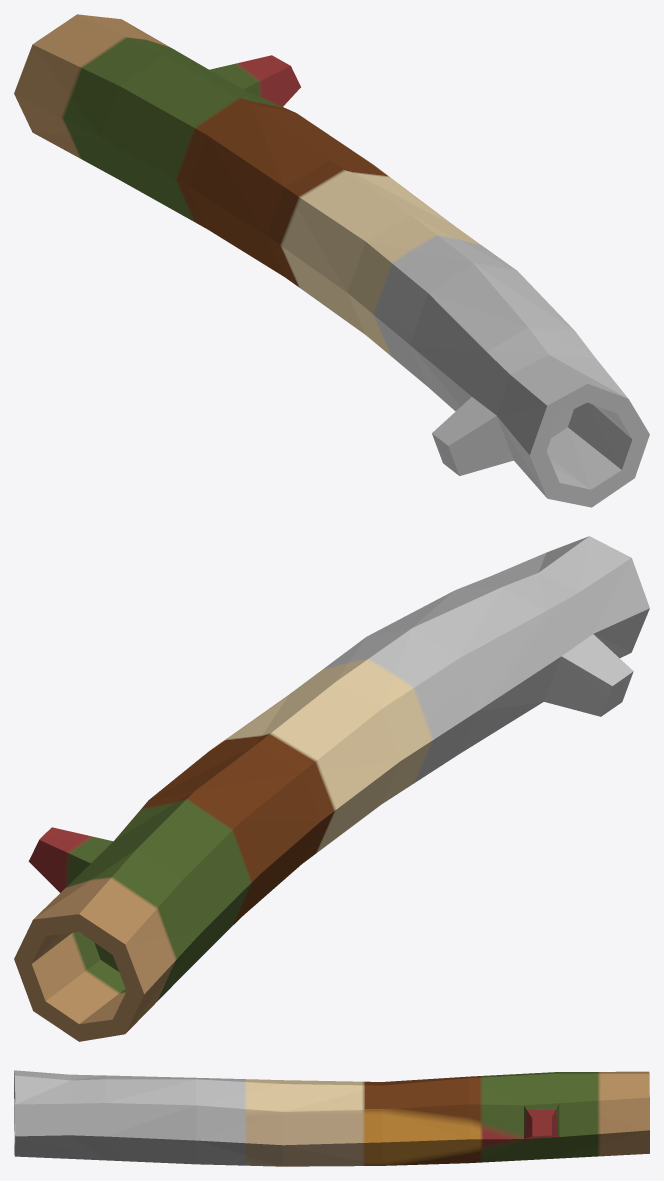
Rendered from Stump_07.fbx.
3 views of the same model, one above another, from view 1: azimuth 30°, elevation 25°; view 2: azimuth 150°, elevation 25°; view 3: azimuth 270°, elevation 25° (orthographic). The views are drawn at different scales.
Visible parts, largest first — view 1: Stump_07; view 2: Stump_07; view 3: Stump_07.
Part boxes in pixels (x1,y1,x2,y2): Stump_07: [14, 14, 649, 507]; Stump_07: [14, 536, 649, 1041]; Stump_07: [14, 1070, 649, 1166].
Bounding box in the file's own units: 1.47 × 0.8594 × 5.93.
